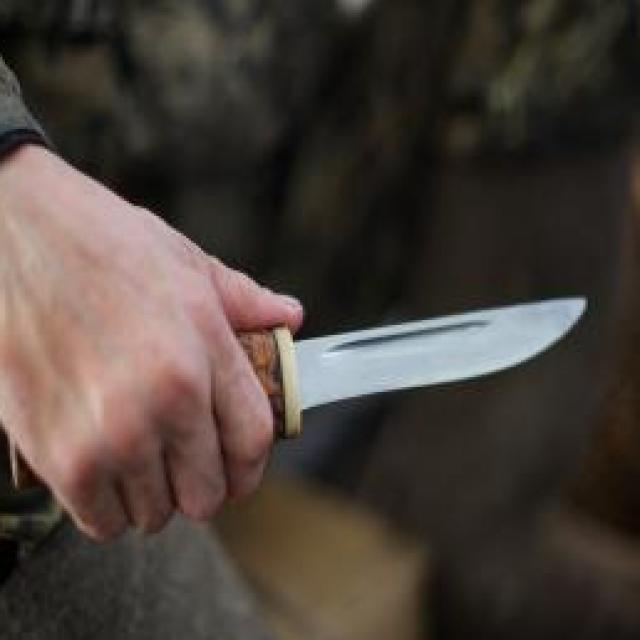knife: (129, 251, 600, 542)
